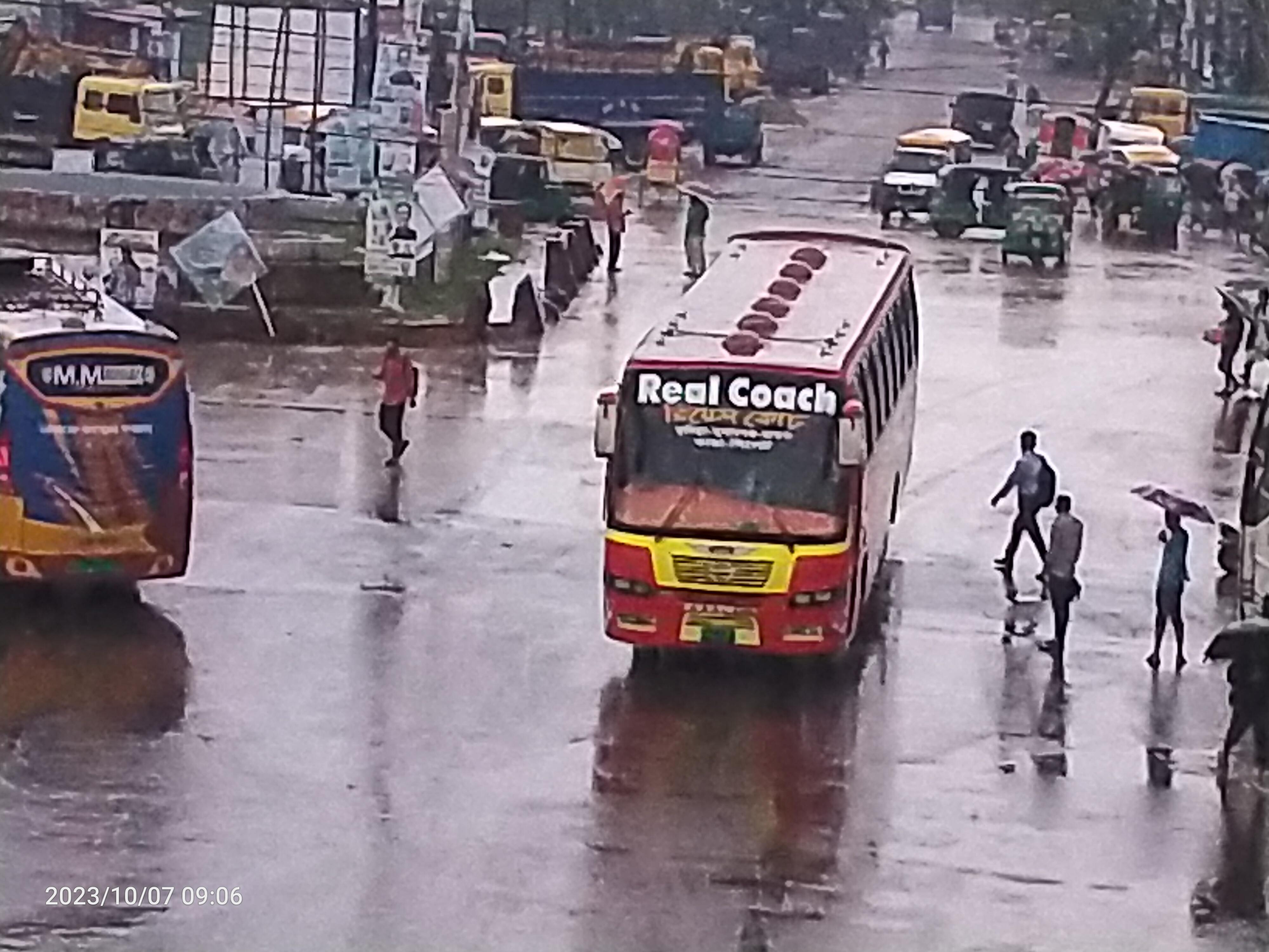Bus: (556, 211, 958, 783), (0, 216, 234, 639), (1210, 332, 1269, 600)
Car: (471, 93, 642, 211), (847, 110, 965, 222)
Truck: (444, 30, 728, 164), (0, 56, 190, 180), (1112, 71, 1269, 163)
